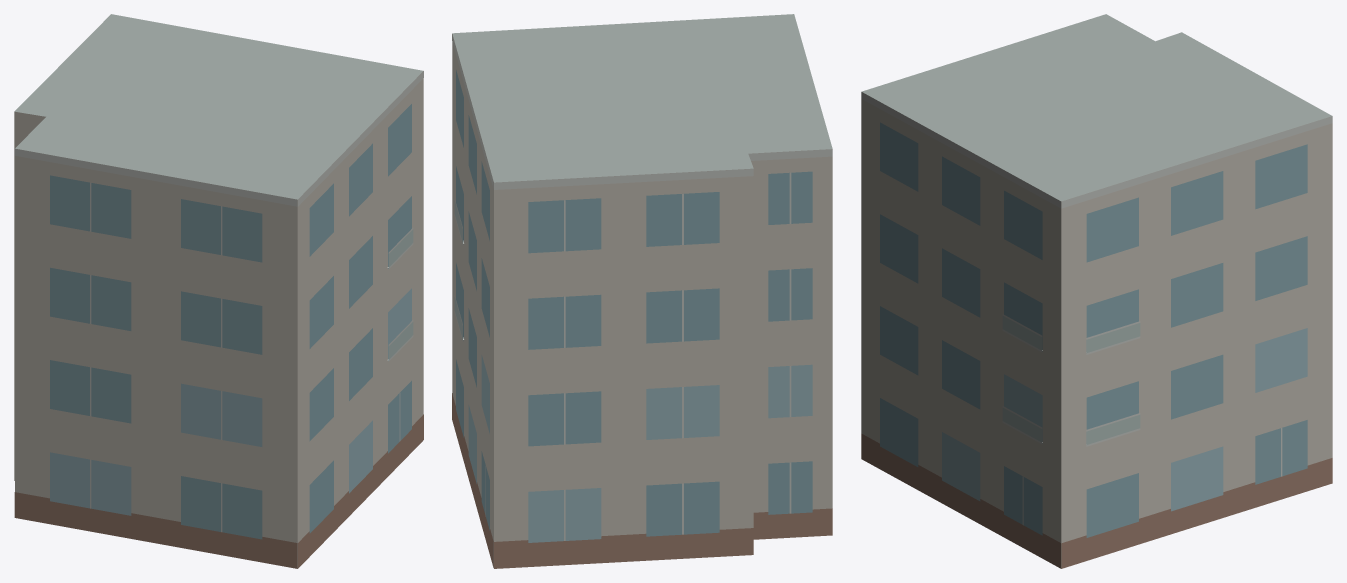
Rendered from survey-upis-32822339.glb.
3 renders of one model, left to right at view 1: azimuth 30°, elevation 25°; view 2: azimuth 150°, elevation 25°; view 3: azimuth 270°, elevation 25°, orthographic. The views are drawn at different scales.
Visible parts, largest first — view 1: survey-upis-32822339.tmp; view 2: survey-upis-32822339.tmp; view 3: survey-upis-32822339.tmp.
Boxes of the visible parts, x1=… form: survey-upis-32822339.tmp: x1=14, y1=14, x2=423, y2=568; survey-upis-32822339.tmp: x1=452, y1=14, x2=832, y2=568; survey-upis-32822339.tmp: x1=861, y1=14, x2=1332, y2=568.
Size of the model in its own units: 13.76 by 12.56 by 14.61.
